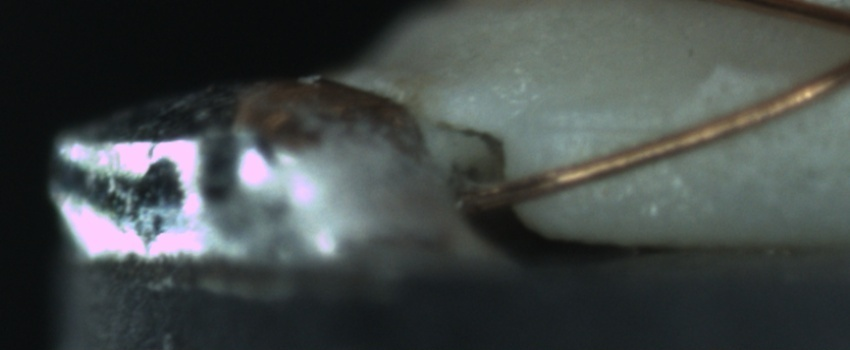DL: (539, 96, 674, 156)
